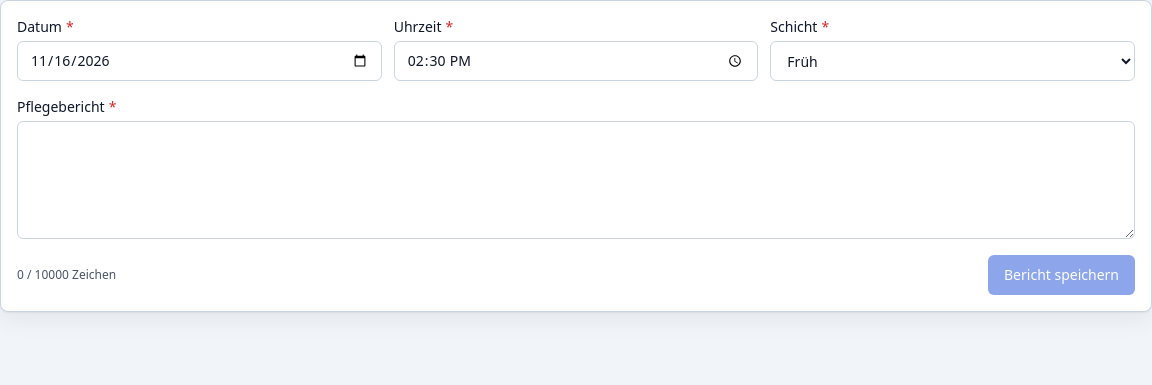
CareReportForm › keeps the text and shows the server error when the save is refused
Type "Wichtiger Text" into the text box labelled "Pflegebericht*". click: (576, 180)
box: [17,121,1135,239]
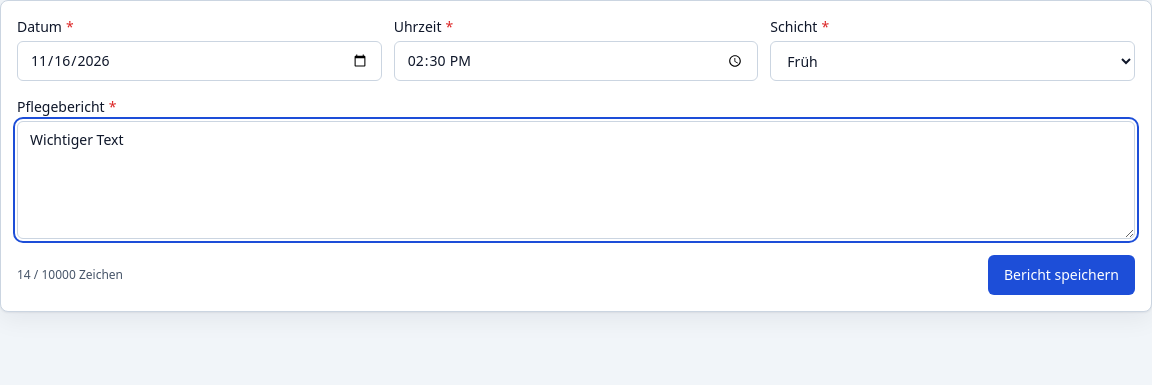
Click the button "Bericht speichern". click: (1062, 275)
box: [988,255,1135,295]
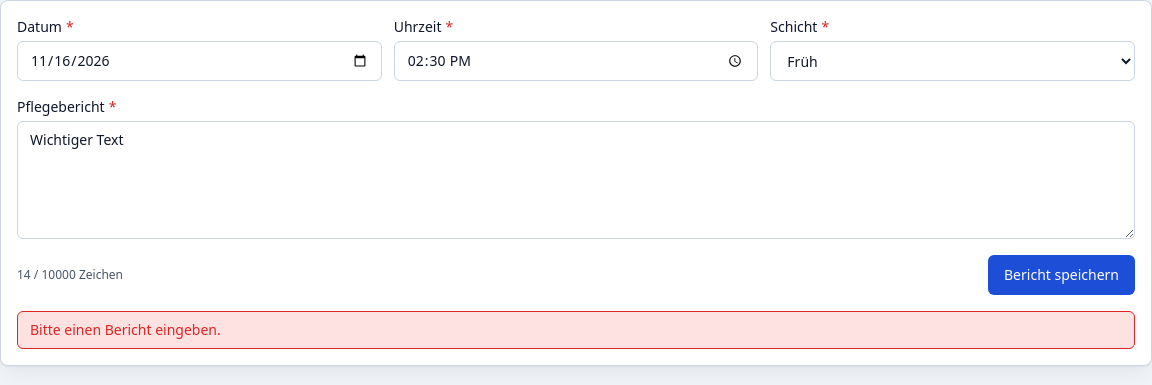
Expected: the message reads "Bitte einen Bericht eingeben.", [30,320,221,339]
